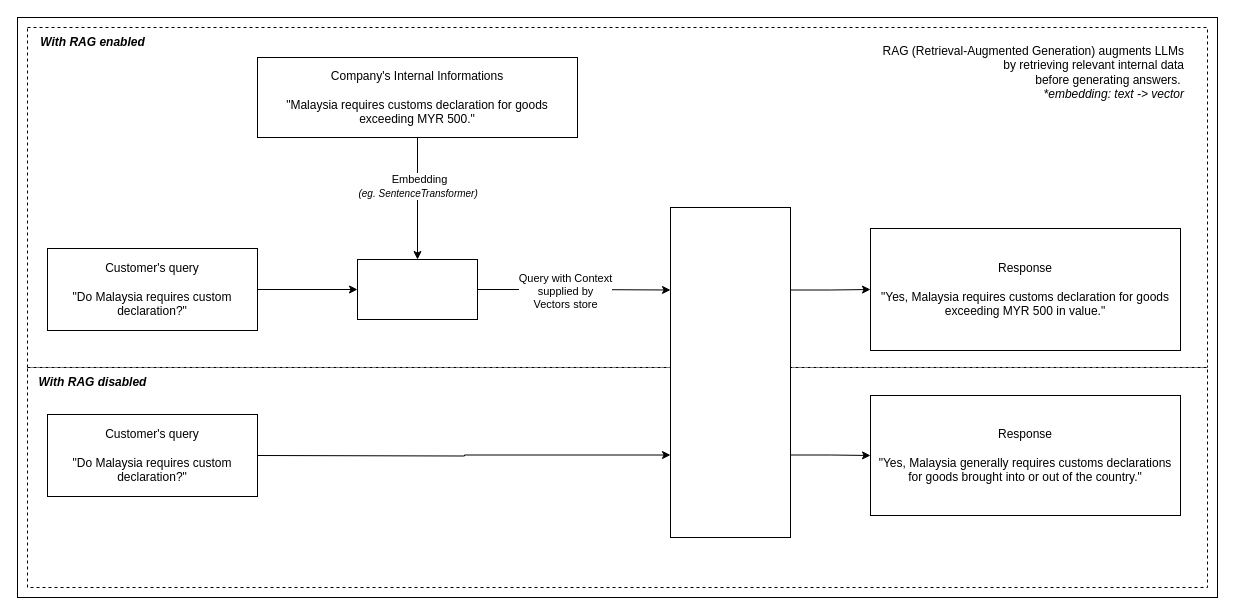
The diagram is 1235 pixels wide and 615 high, and some of its shapes have lost their labels. The shapes that lost their labels are listed below. From the top down, each one's centre as x and y in pixels, then its label:
pixel 417 289: Vectors Store (eg. FAISS, Chroma DB)
pixel 730 372: LLM (eg. GPT4, Gemini)
